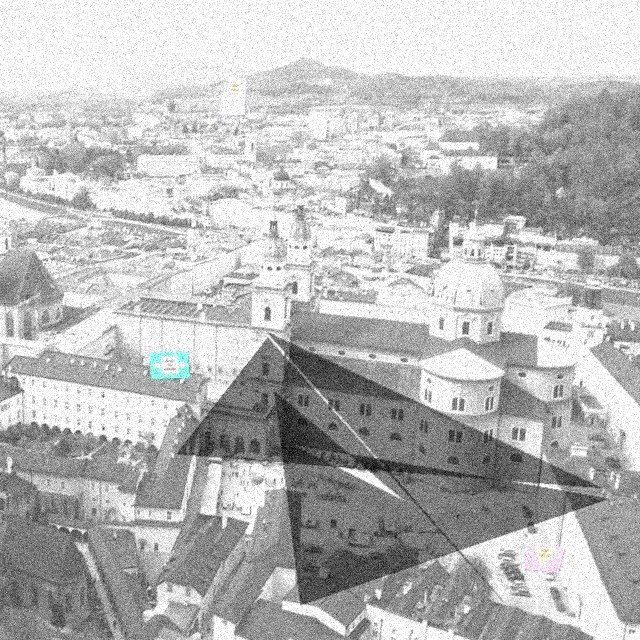DO_NOT_GO_AROUND: (151, 355, 187, 375)
NOT_YIELD: (529, 545, 558, 570), (221, 81, 245, 104)
